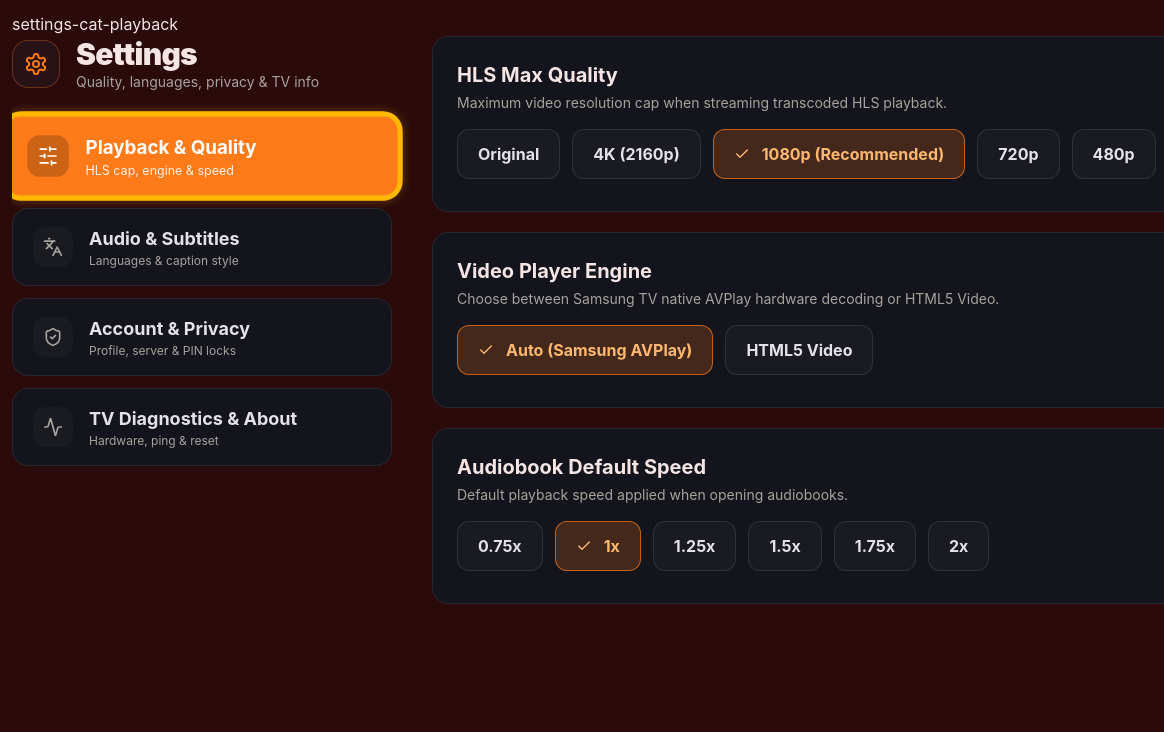
Test: SettingsView › displays account info, re-locks unlocked private libraries, and handles profile/server switching
The image size is (1164, 732).
Later steps or results of the test are not shown.
Click the button with test id "settings-cat-account".
click(202, 337)  # box top-left (12, 298), bottom-right (392, 376)
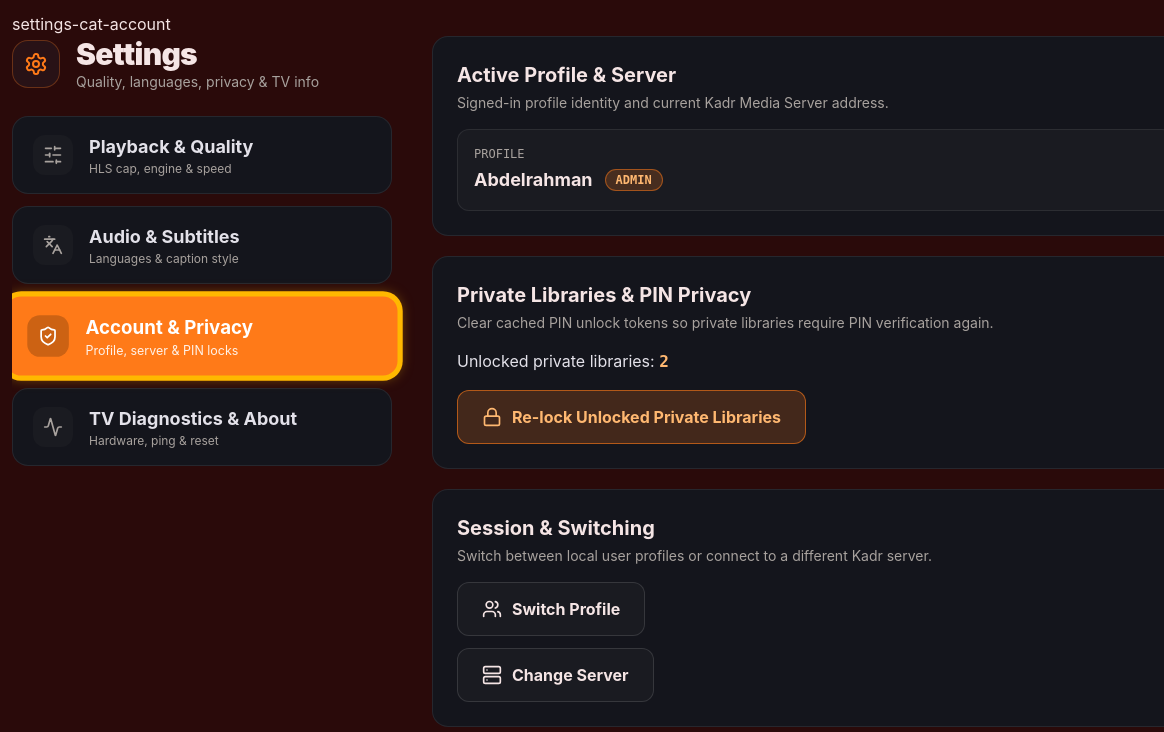
Expected: the text with test id "settings-unlocked-count" reads "2", top-left (659, 352), bottom-right (669, 371)
Expected: the text "Abdelrahman" is shown, top-left (474, 166), bottom-right (593, 194)
Expected: the text "admin" is shown, top-left (605, 169), bottom-right (663, 191)
Click the button with test id "settings-lock-libraries-btn".
click(632, 417)  # box top-left (457, 390), bottom-right (806, 444)
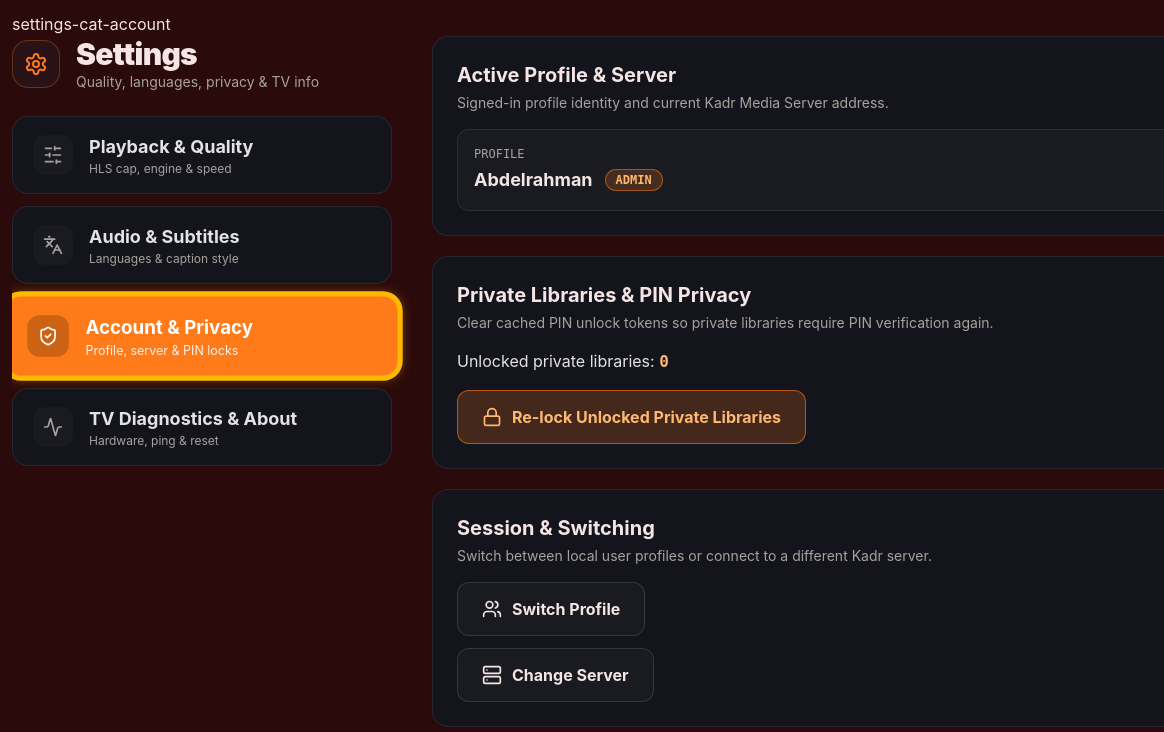
Expected: the text with test id "settings-unlocked-count" reads "0", top-left (659, 352), bottom-right (669, 371)
